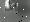person: (6, 2, 11, 16), (12, 5, 18, 16)
